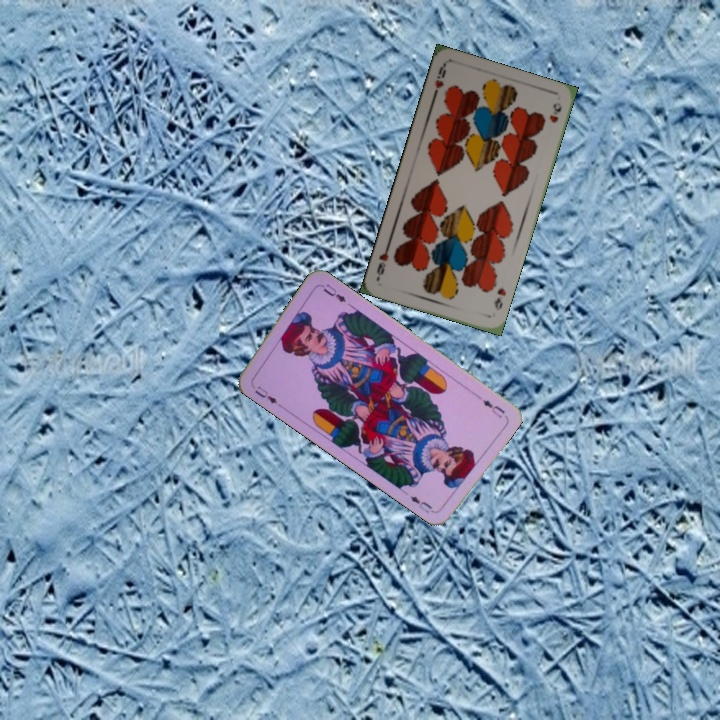EU: (251, 382, 284, 409), (479, 395, 507, 420)
H9: (429, 61, 449, 101), (490, 283, 508, 313)
